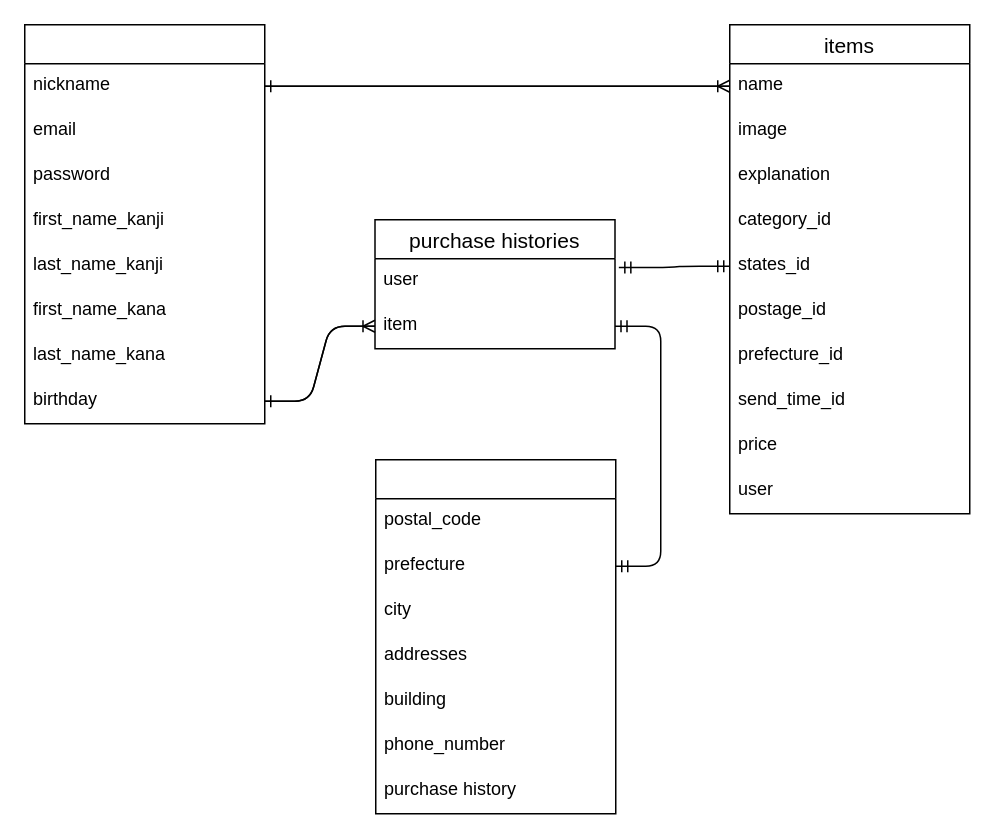
Some shapes in this 995 by 839 pixel diagram are drawn without their labels. The shapes that lost their labels are listed below. From the top down, each one's box as (x1, y1, x2, y2) in pixels, then its label:
(23, 23, 265, 424): users
(374, 458, 616, 814): buy addresses
